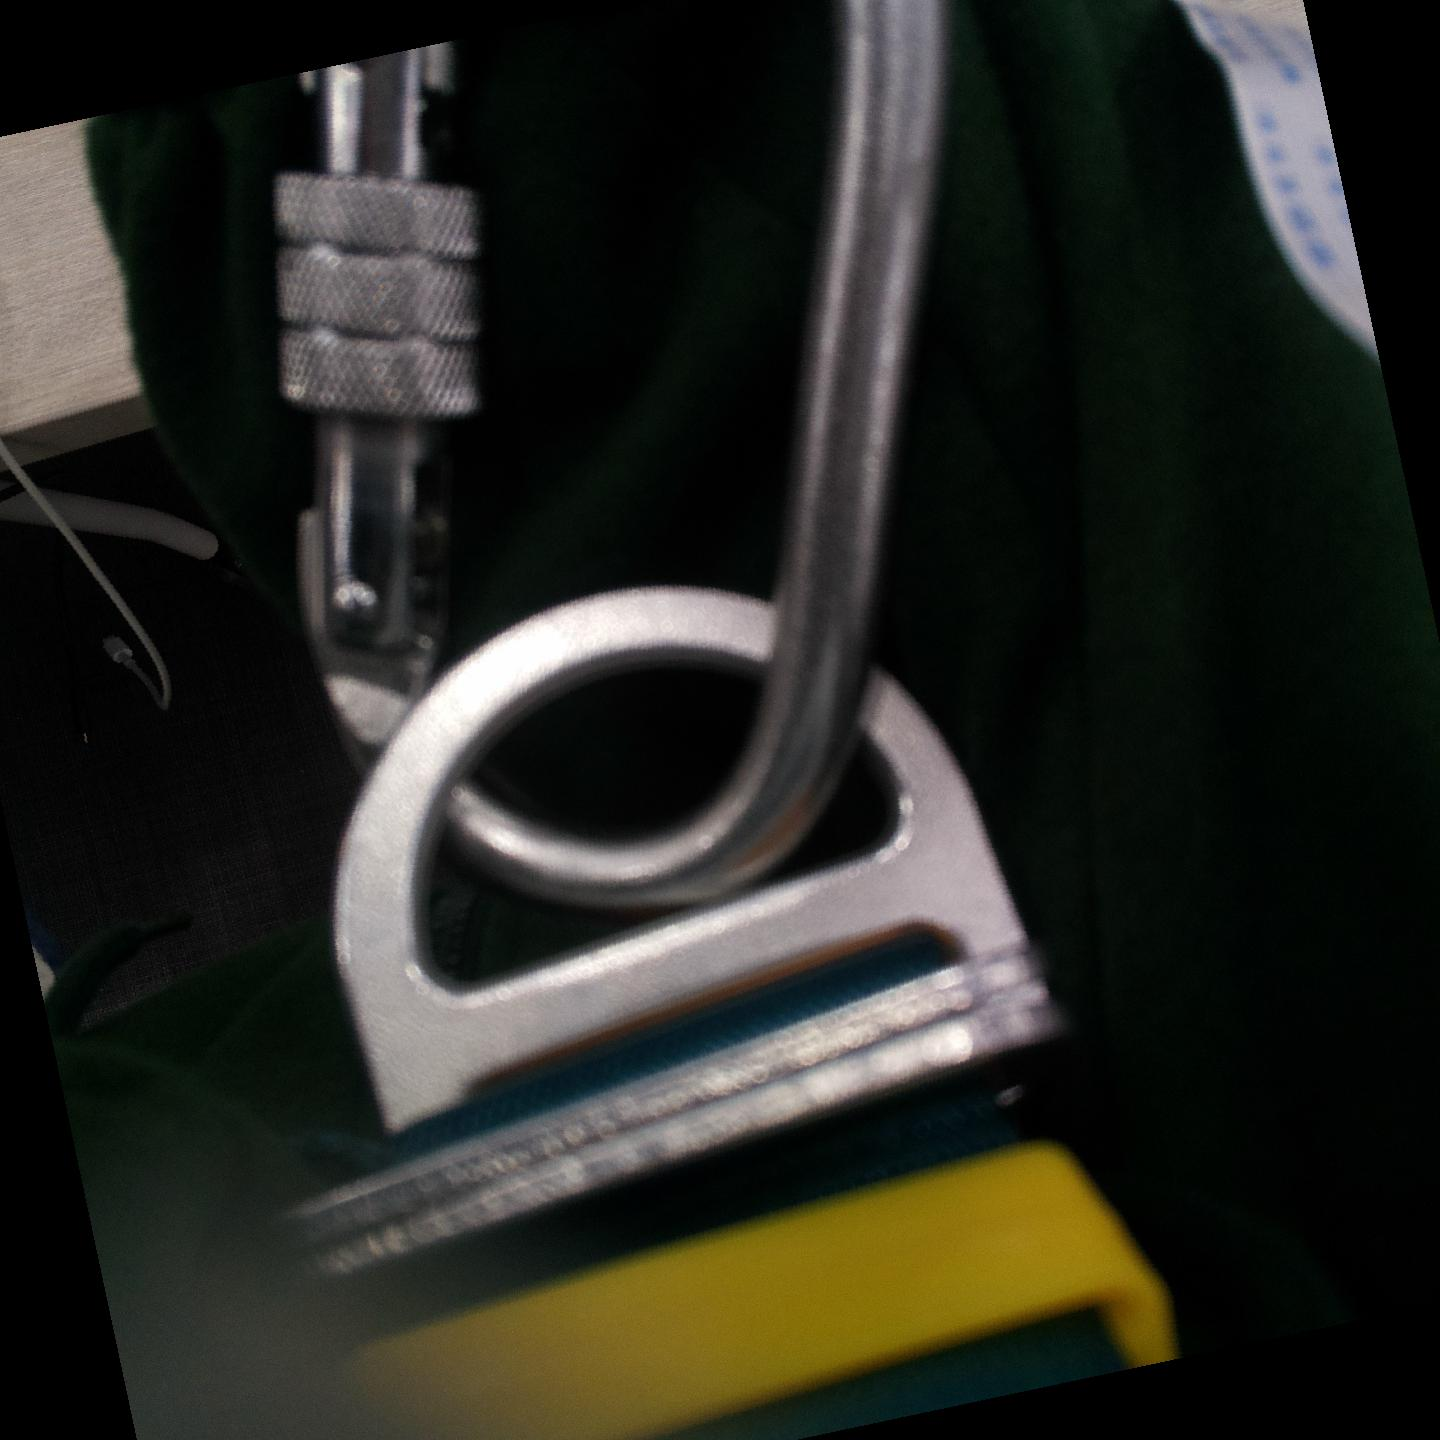SUCCESS: (272, 92, 934, 574)
